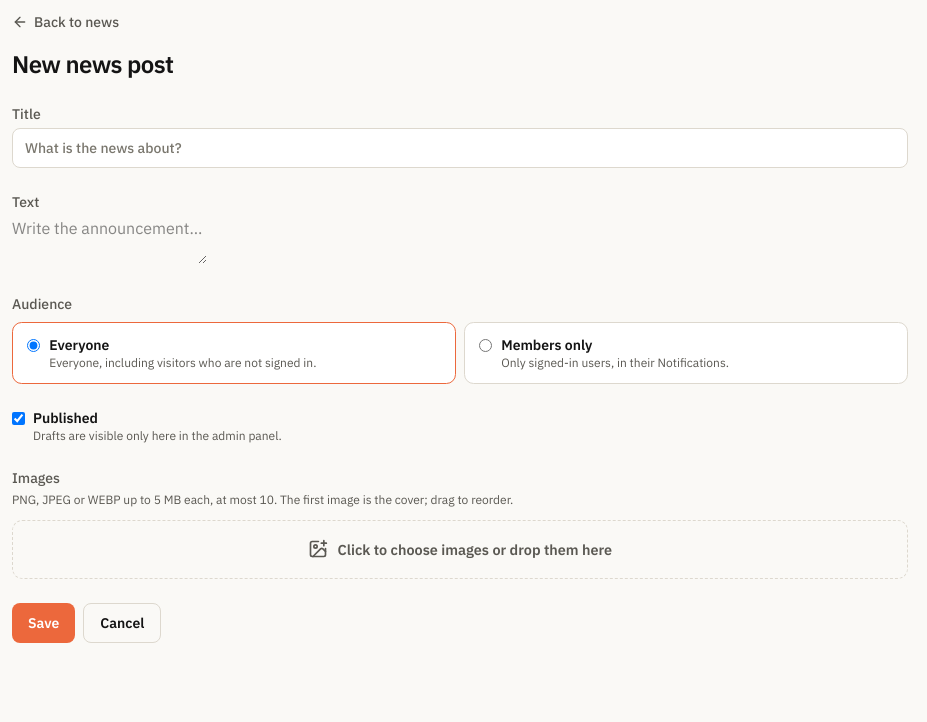
AdminNewsEditorView › shows the server validation message
The width and height of the screenshot is (927, 722).
Type "Launch" into the field labelled "Title" at (460, 148), box 12,128 -> 908,168
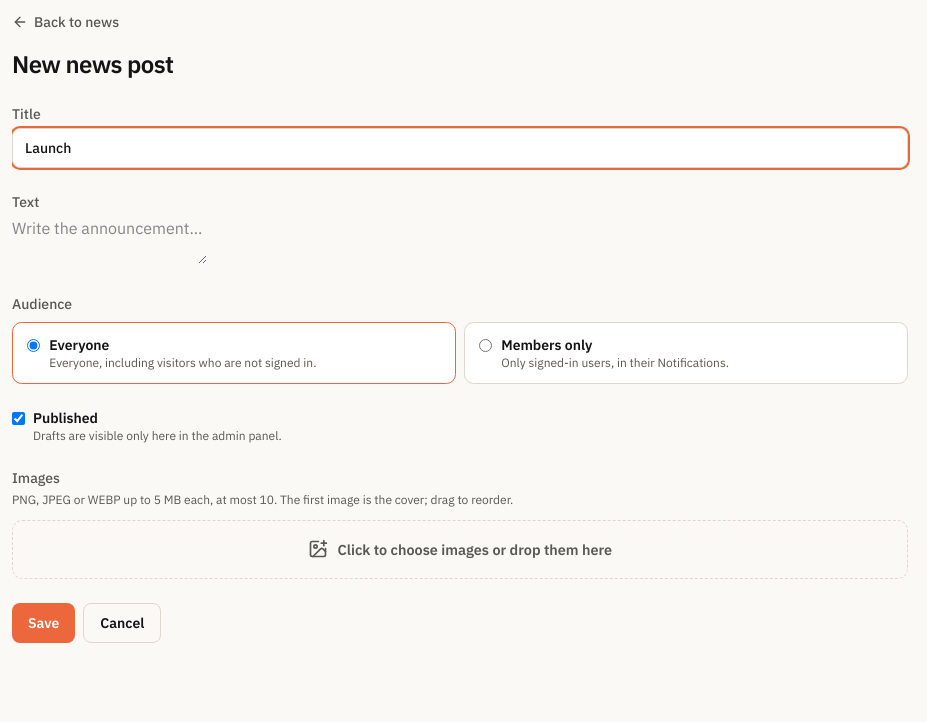
Type "Body" into the text box named "Body" at (110, 240), box 12,216 -> 207,264
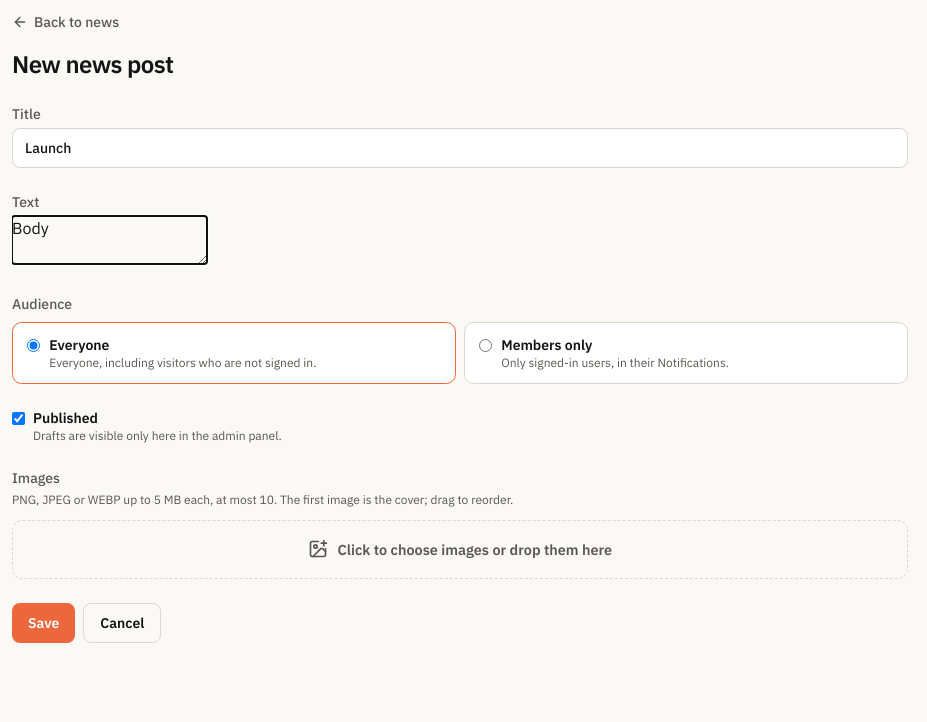
Click the button "Save" at (44, 623), box 12,603 -> 75,643
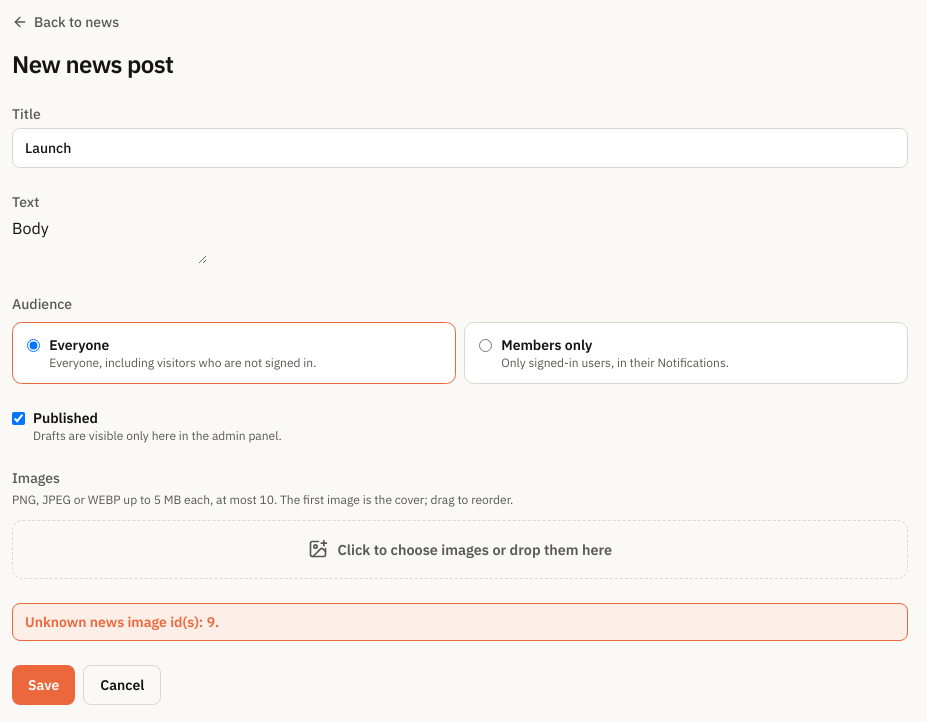
Check: the message reads "Unknown news image id(s): 9.", box 25,613 -> 219,631
